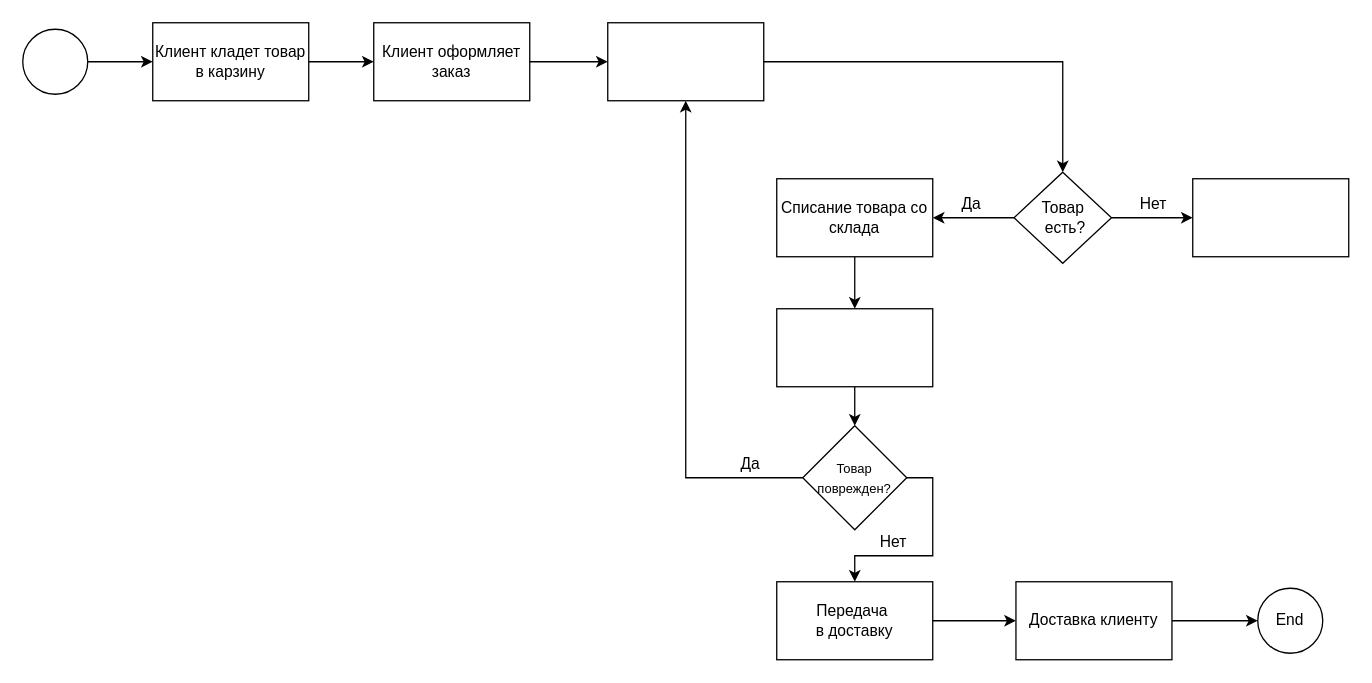
Some shapes in this 1372 by 683 pixel diagram are drawn without their labels. Here are the shapes that lost their labels. From the top down, the centre of each, then its label:
[54,61]: Start
[685,61]: Проверка наличия товара на складе
[1270,217]: Уведомляем клиента
[854,347]: Сборка заказа
